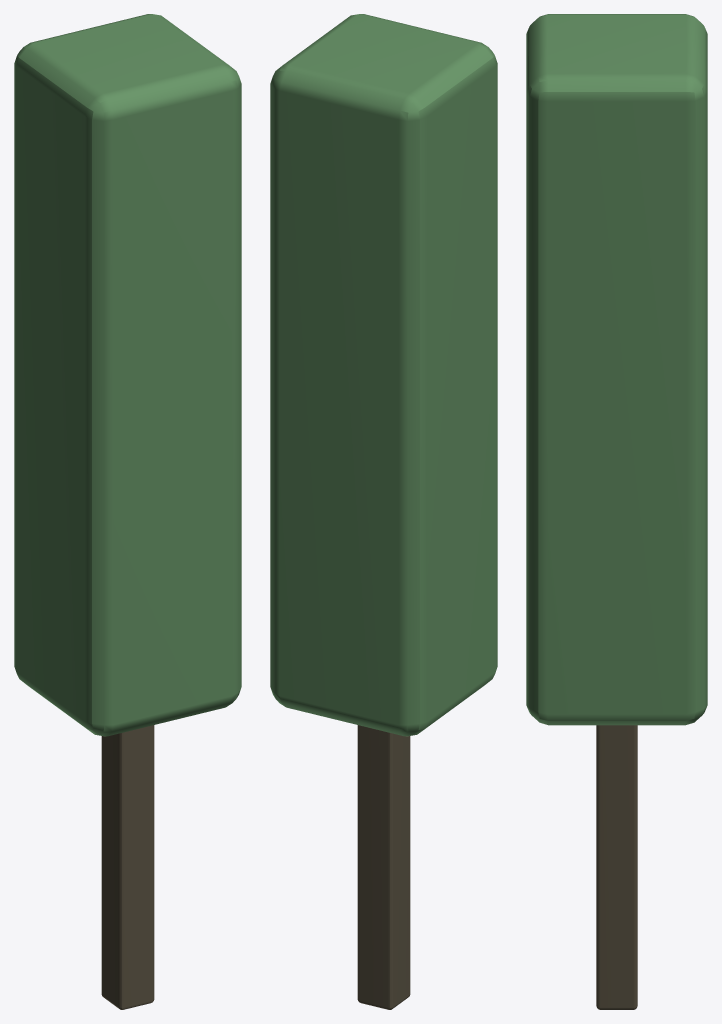
File: Tree_005.fbx
3 views of the same model, side by side, from view 1: azimuth 30°, elevation 25°; view 2: azimuth 150°, elevation 25°; view 3: azimuth 270°, elevation 25° (orthographic).
Visible parts, largest first — view 1: tree_005; view 2: tree_005; view 3: tree_005.
Part boxes in pixels (left/top/right/bottom): tree_005: left=14, top=14, right=241, bottom=1009; tree_005: left=270, top=14, right=497, bottom=1009; tree_005: left=526, top=14, right=707, bottom=1009.
Bounding box in the file's own units: 0.7376 × 4.3 × 0.7376.
